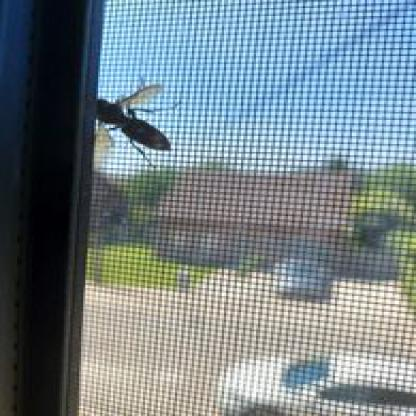Asian Hornet: (76, 76, 194, 166)
